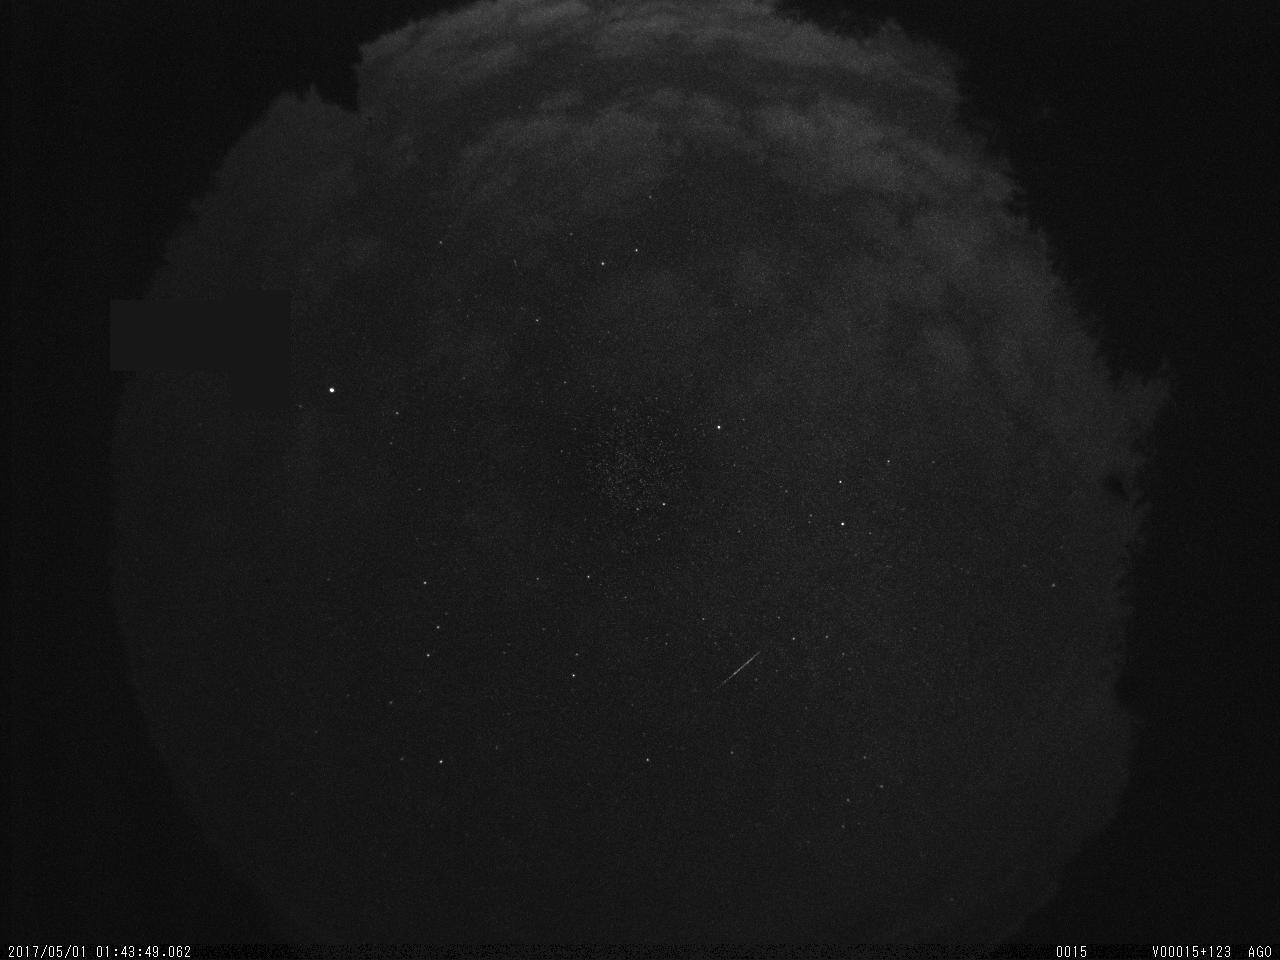meteor: (709, 639, 768, 701)
